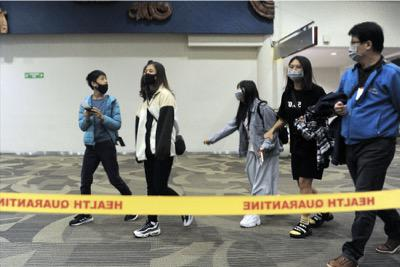mask_weared_incorrect: (95, 76, 108, 94)
with_mask: (348, 36, 367, 63), (286, 63, 304, 83), (142, 68, 157, 87), (234, 85, 244, 104)
